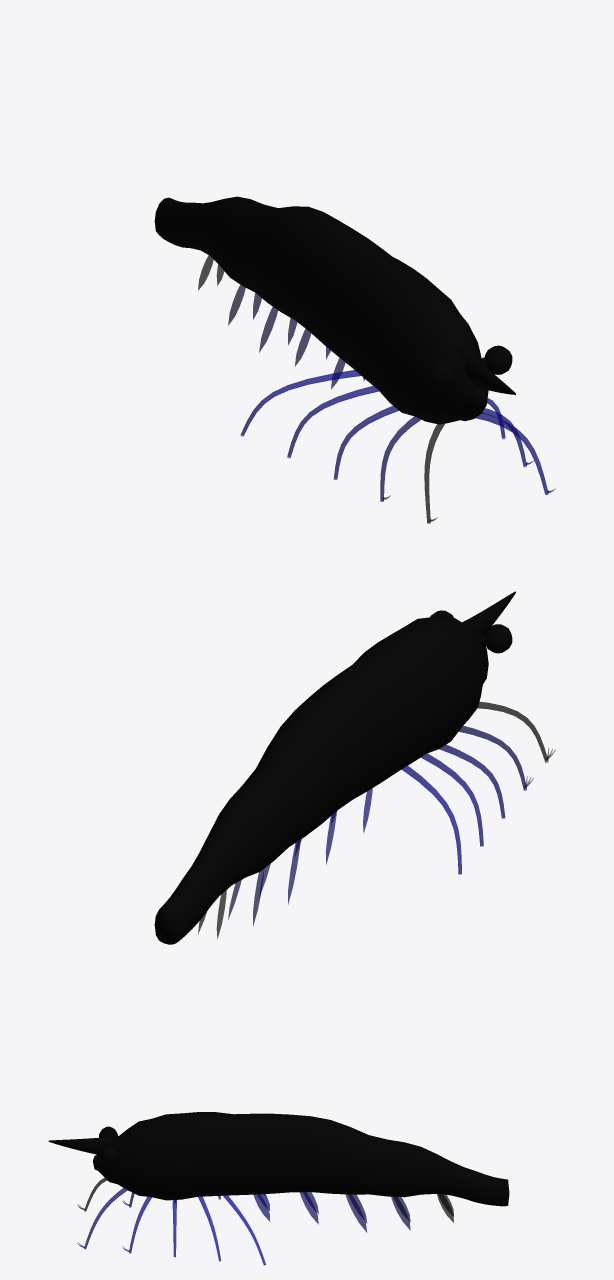
File: amano-shrimp.glb
The picture shows the model from 3 angles, top to bottom: view 1: azimuth 30°, elevation 25°; view 2: azimuth 150°, elevation 25°; view 3: azimuth 270°, elevation 25°; orthographic projection. The views are drawn at different scales.
Parts seen in each view (by area): view 1: amano_body, amano_rostrum, amano_leg4L, amano_leg3L, amano_eyeL, amano_eyeR, amano_leg0R; view 2: amano_body, amano_rostrum, amano_leg4L, amano_eyeL, amano_leg3L, amano_leg2L; view 3: amano_body, amano_rostrum.
Part boxes in pixels (bbox=[...]): amano_body: bbox=[154, 196, 488, 424]; amano_rostrum: bbox=[458, 347, 515, 394]; amano_leg4L: bbox=[240, 370, 360, 436]; amano_leg3L: bbox=[287, 385, 379, 458]; amano_eyeL: bbox=[428, 359, 457, 388]; amano_eyeR: bbox=[478, 345, 512, 374]; amano_leg0R: bbox=[475, 413, 548, 494]; amano_body: bbox=[154, 614, 488, 944]; amano_rostrum: bbox=[462, 591, 515, 634]; amano_leg4L: bbox=[401, 765, 461, 874]; amano_eyeL: bbox=[478, 624, 512, 653]; amano_leg3L: bbox=[421, 753, 483, 846]; amano_leg2L: bbox=[439, 744, 505, 818]; amano_body: bbox=[93, 1112, 509, 1206]; amano_rostrum: bbox=[48, 1136, 119, 1154].
Size of the model in its own units: 0.4818 by 0.406 by 1.28.
